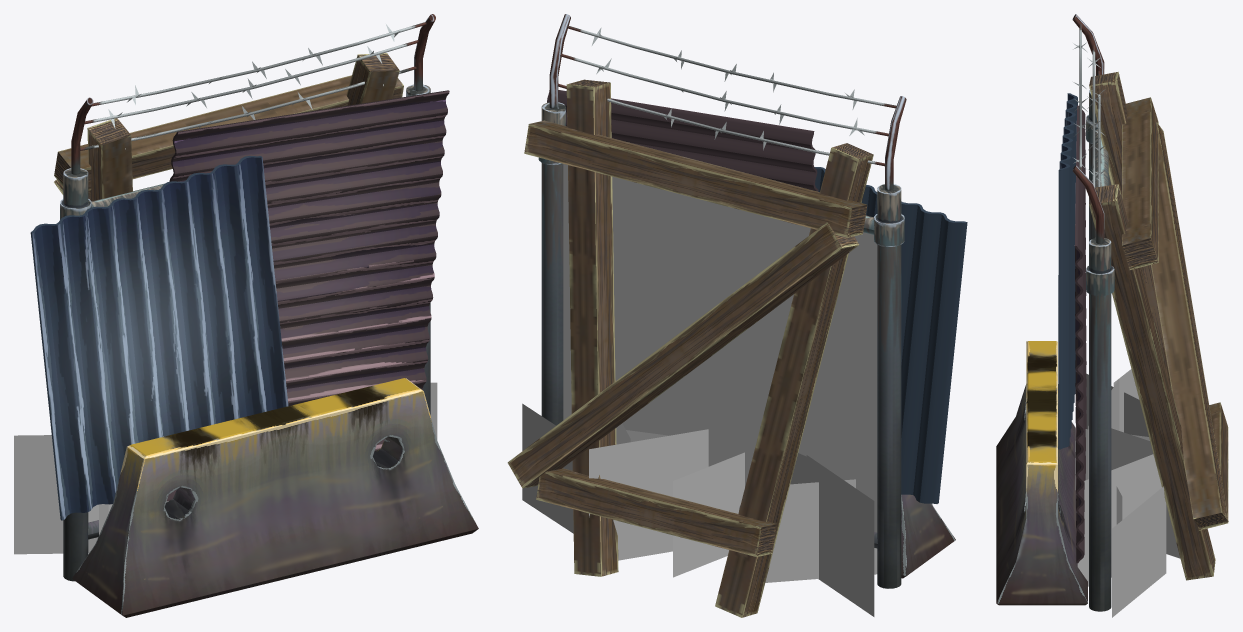
The model's file is zabor2.fbx.
The picture shows the model from 3 angles, left to right: view 1: azimuth 30°, elevation 25°; view 2: azimuth 150°, elevation 25°; view 3: azimuth 270°, elevation 25°; orthographic projection. The views are drawn at different scales.
Visible parts, largest first — view 1: Cube.101, Cube.099, Cube.100, Plane.002, Grass.005, Cube.104, Cube.102, Cube.103; view 2: Plane.002, Grass.005, Cube.102, Cube.101, Cube.103, Cube.106, Cube.104, Cube.100, Cube.105, Cube.099; view 3: Cube.099, Plane.002, Cube.103, Grass.005, Cube.106, Cube.101, Cube.104, Cube.100, Cube.102, Cube.105.
Boxes of the visible parts, x1,y1,x2,y2 form: Cube.101: (30, 156, 288, 520); Cube.099: (72, 378, 478, 617); Cube.100: (167, 90, 449, 501); Plane.002: (60, 14, 435, 581); Grass.005: (14, 382, 437, 554); Cube.104: (54, 75, 403, 190); Cube.102: (87, 118, 132, 201); Cube.103: (346, 53, 399, 105); Plane.002: (538, 14, 906, 588); Grass.005: (522, 403, 877, 616); Cube.102: (715, 143, 873, 617); Cube.101: (814, 167, 967, 503); Cube.103: (566, 79, 618, 576); Cube.106: (507, 222, 858, 488); Cube.104: (524, 120, 867, 237); Cube.100: (547, 90, 818, 191); Cube.105: (536, 468, 776, 556); Cube.099: (901, 494, 955, 578); Cube.099: (996, 341, 1087, 605); Plane.002: (1072, 14, 1114, 611); Cube.103: (1089, 184, 1215, 580); Grass.005: (1075, 369, 1180, 617); Cube.106: (1151, 122, 1228, 528); Cube.101: (1058, 93, 1077, 449); Cube.104: (1122, 97, 1158, 269); Cube.100: (1074, 105, 1086, 563); Cube.102: (1089, 71, 1171, 388); Cube.105: (1198, 402, 1228, 530).
Size of the model in its own units: 5.26 by 5.9 by 2.73.
